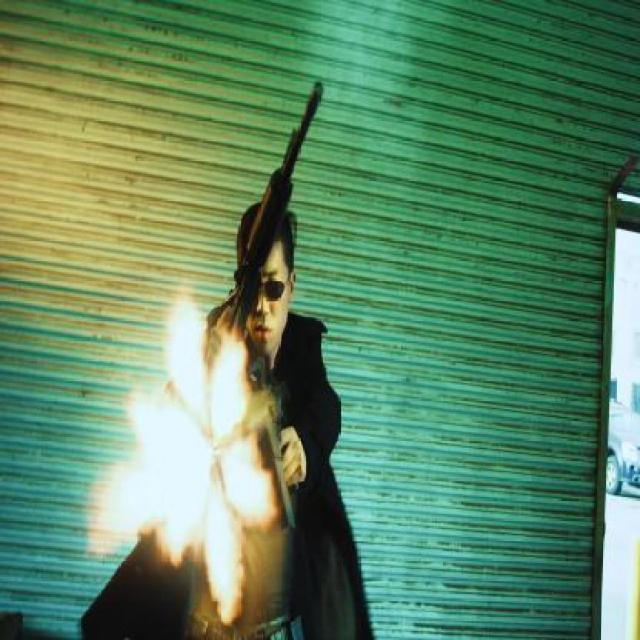Rifle: (209, 63, 338, 370)
